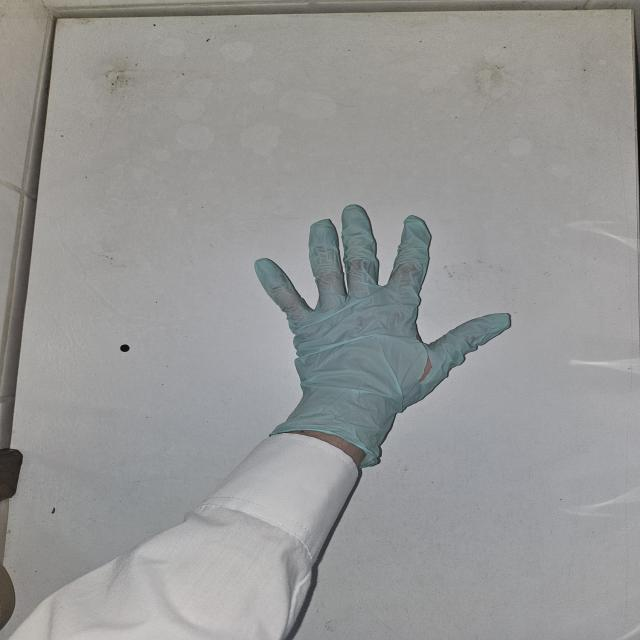gloves_damaged: (250, 203, 516, 464)
